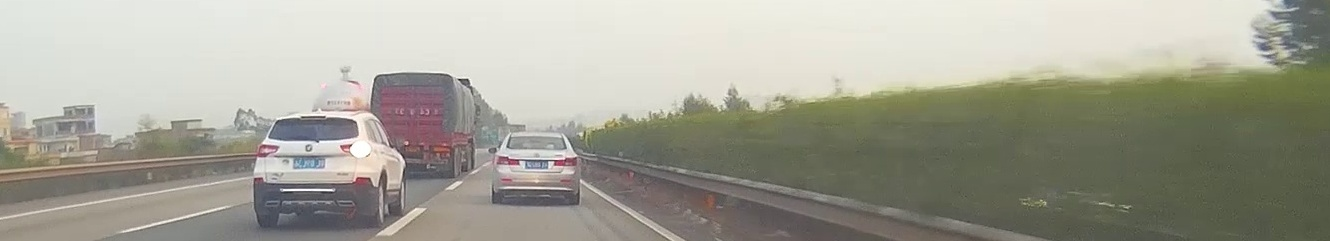L_light: (257, 144, 279, 157), (495, 155, 520, 165)
R_light: (340, 141, 372, 158), (554, 157, 577, 166)
T_light: (301, 116, 327, 119), (531, 136, 542, 139)
day-no: (492, 132, 579, 205)
day-right: (253, 111, 375, 229)
